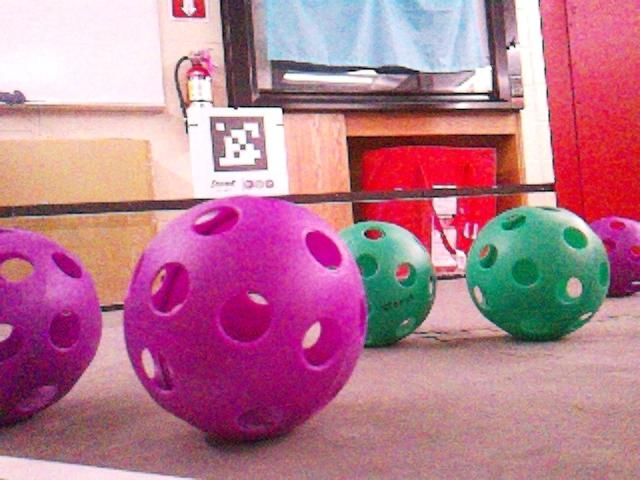Green: (464, 205, 609, 339), (337, 220, 437, 346), (538, 206, 559, 211)
Purple: (123, 197, 362, 437), (0, 225, 104, 427), (588, 216, 640, 297)
